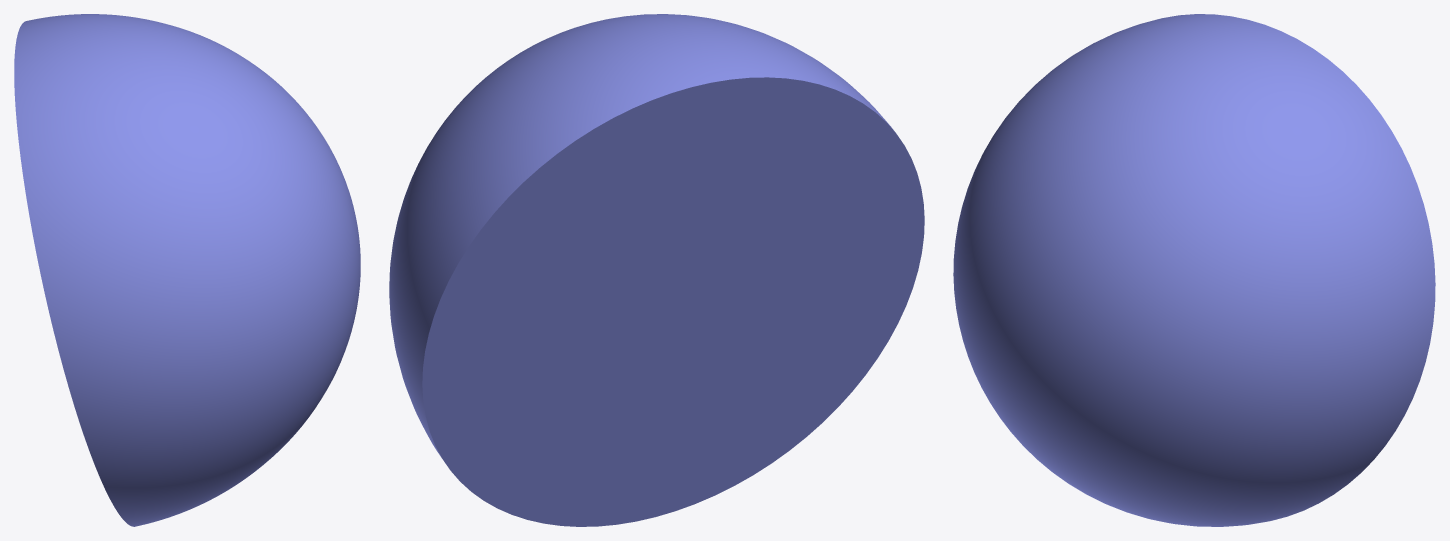
File: hemisphere.glb
The picture shows the model from 3 angles, left to right: view 1: azimuth 30°, elevation 25°; view 2: azimuth 150°, elevation 25°; view 3: azimuth 270°, elevation 25°; orthographic projection. The views are drawn at different scales.
Parts seen in each view (by area): view 1: mesh_id27; view 2: mesh_id27; view 3: mesh_id27.
Part boxes in pixels (box(x1,y1,x2,y2)): mesh_id27: box(14, 14, 360, 526); mesh_id27: box(389, 14, 924, 526); mesh_id27: box(953, 14, 1435, 526).
Size of the model in its own units: 0.1578 by 0.1895 by 0.18.
